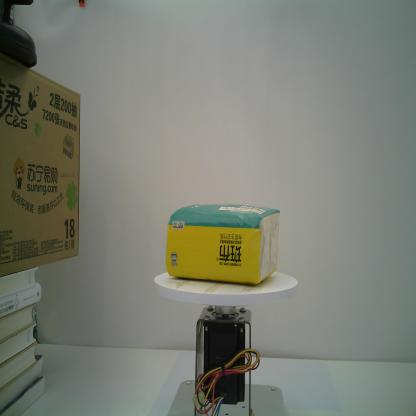Tissue: (165, 202, 280, 284)
